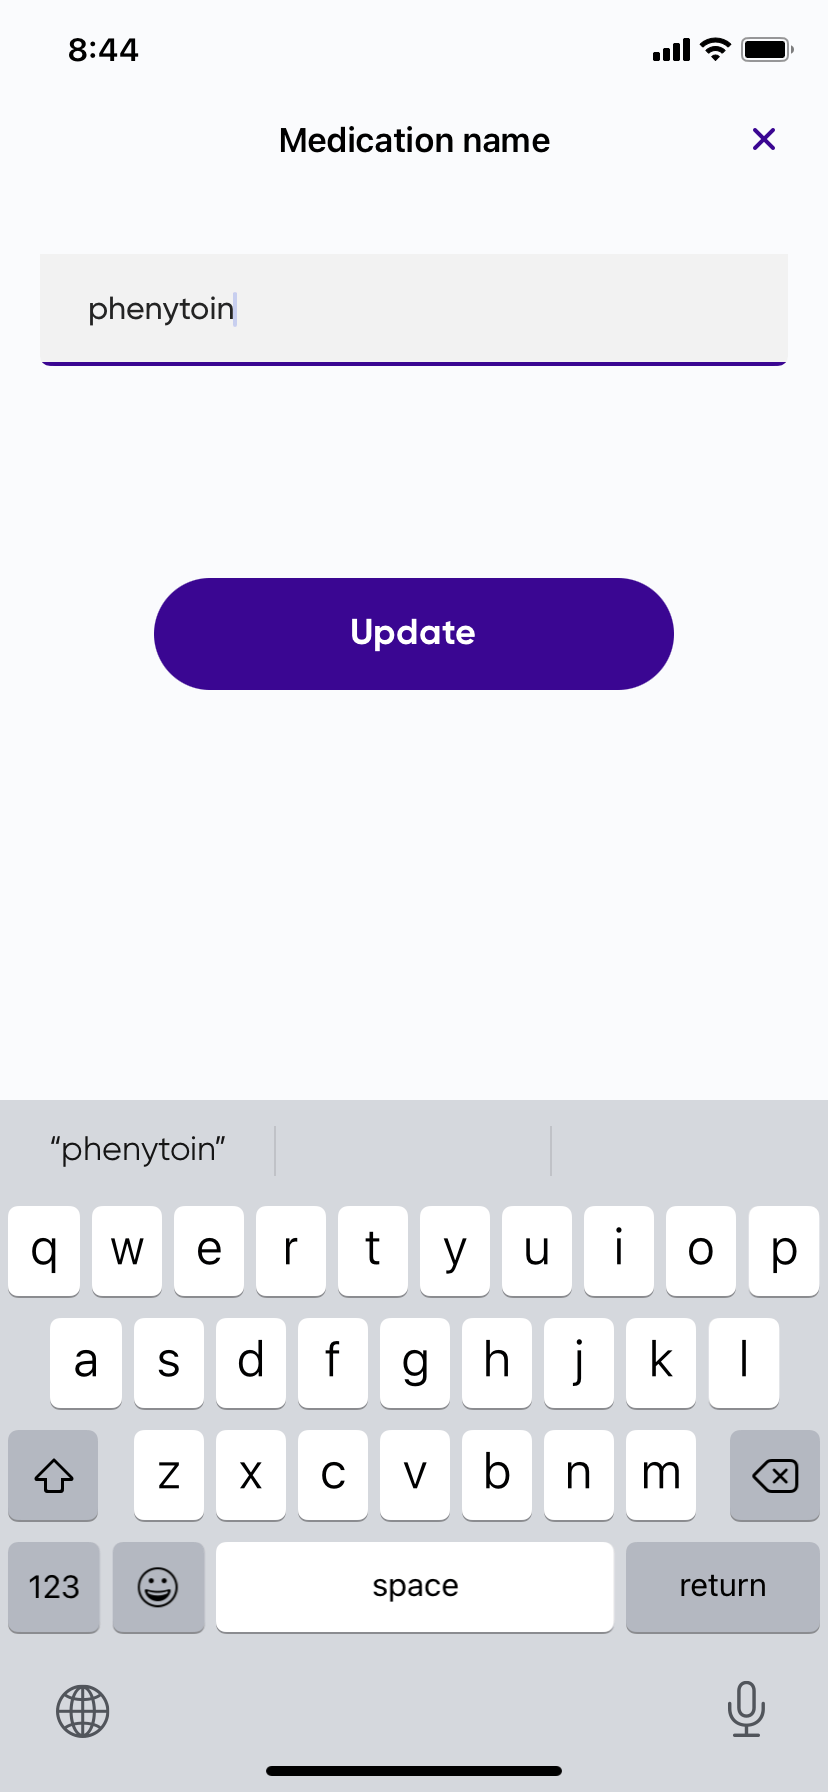Buttons: (138, 568, 690, 709), (716, 89, 810, 177)
Text Fields: (27, 235, 796, 382)
